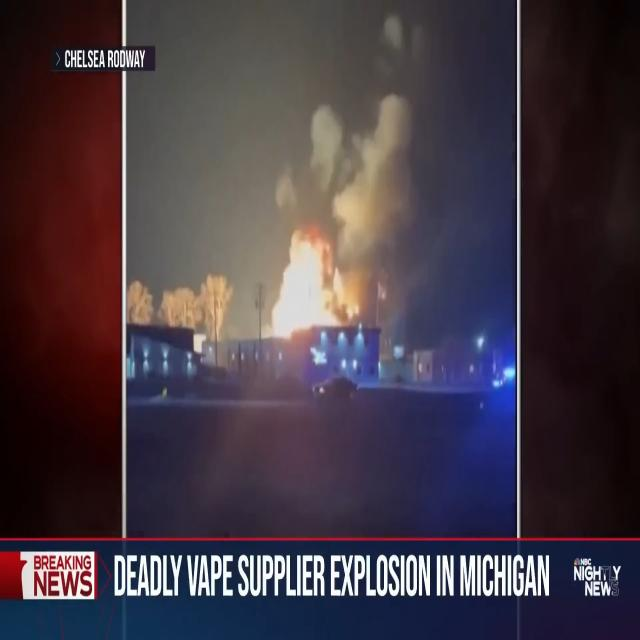fire: (236, 173, 419, 370)
